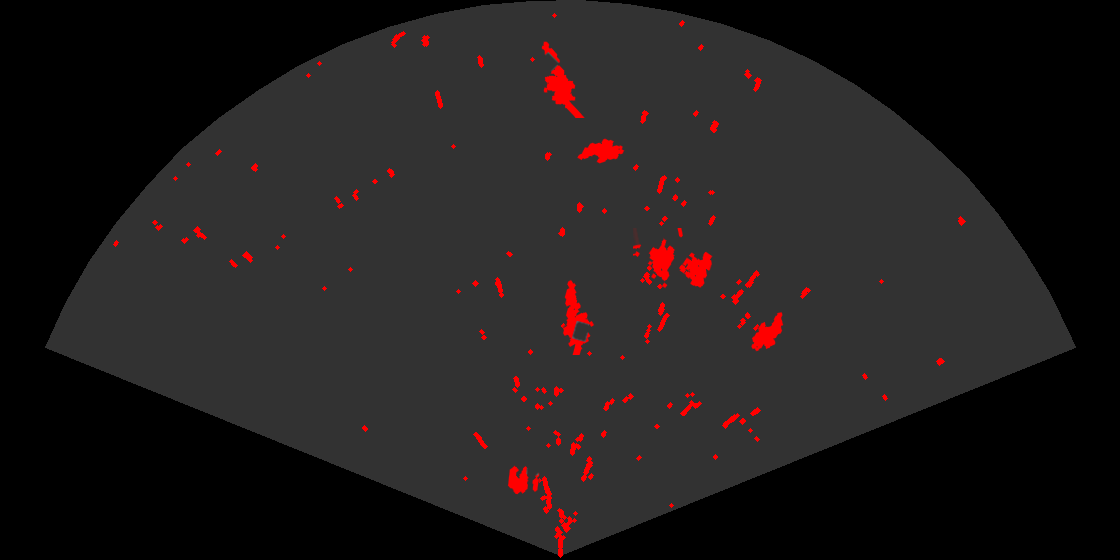AUV: (750, 311, 785, 353), (576, 137, 626, 165)
ball: (506, 464, 541, 496)
cage: (633, 228, 714, 290)
frogman: (540, 40, 586, 118), (561, 278, 596, 355)
